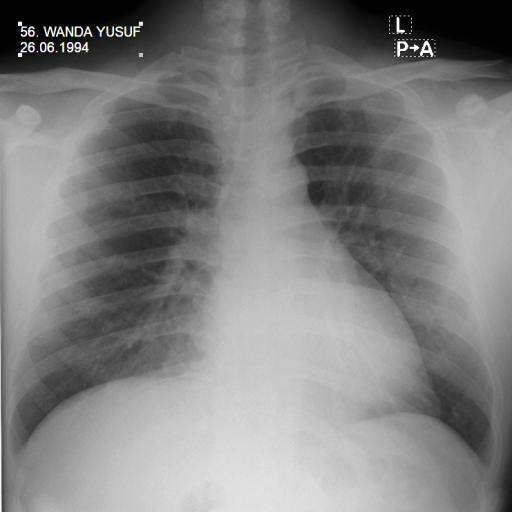kardiomegali: (6, 44, 501, 473)
